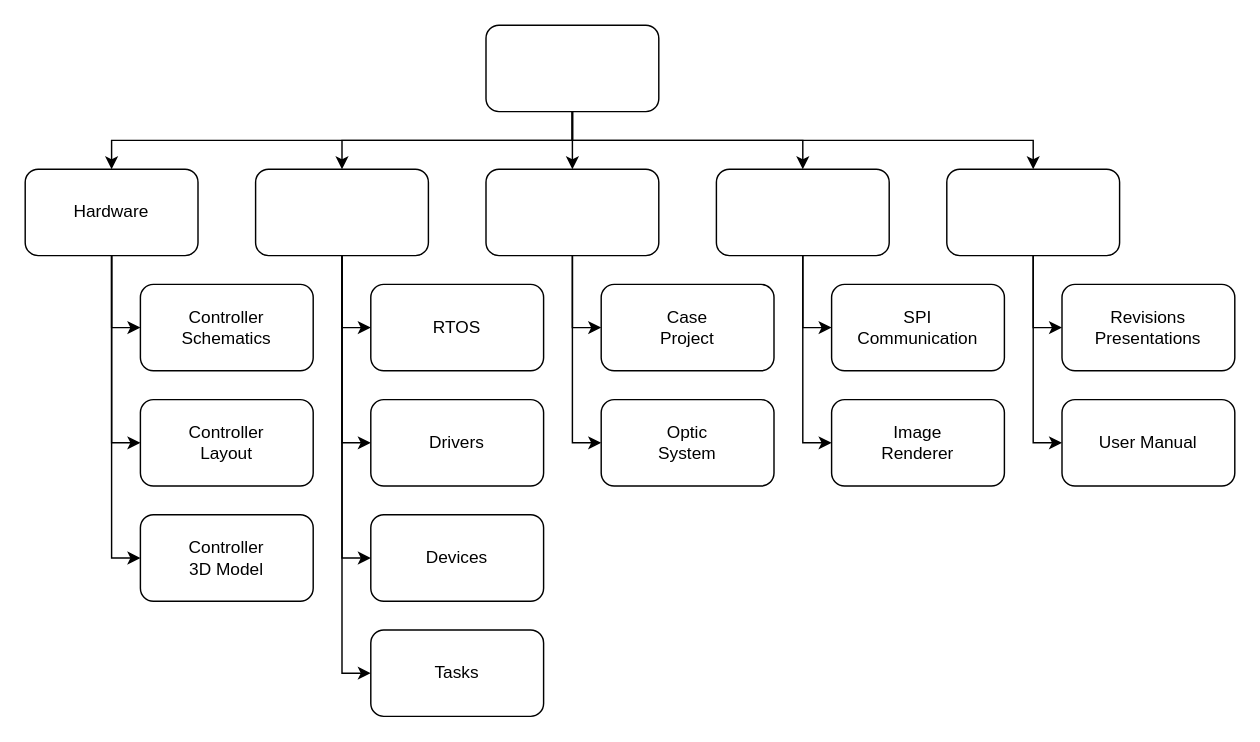
Some shapes in this 1260 by 742 pixel diagram are drawn without their labels. The centre of each missing label's shape, as x and y in pixels:
Camera: (572,68)
Documentation: (1032,212)
Firmware: (341,212)
Mechanical: (572,212)
Software: (802,212)
